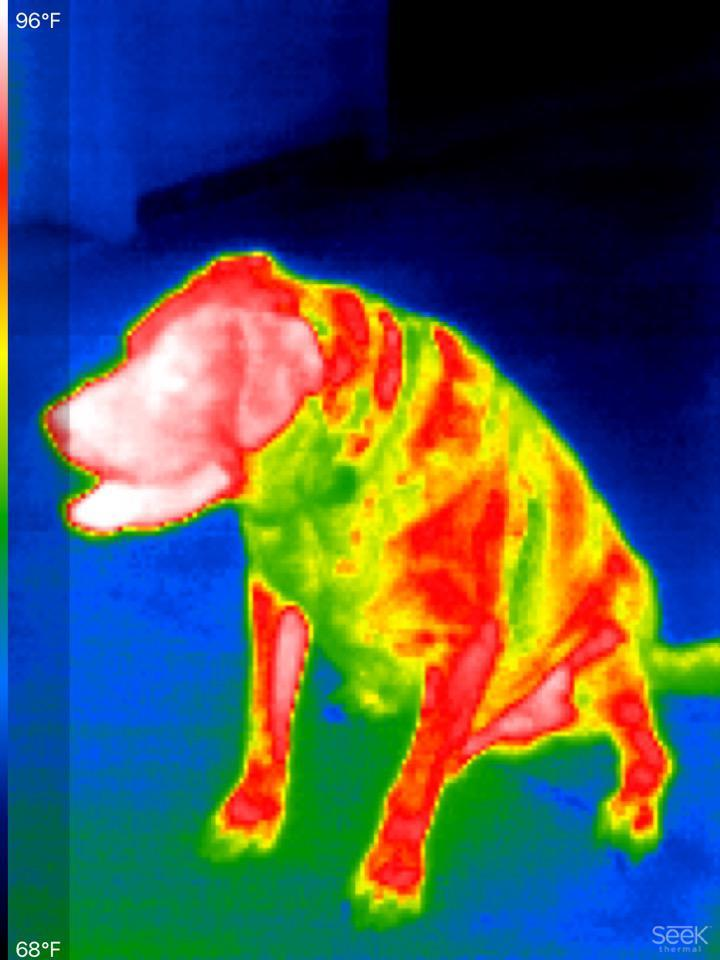dog: (29, 227, 683, 916)
